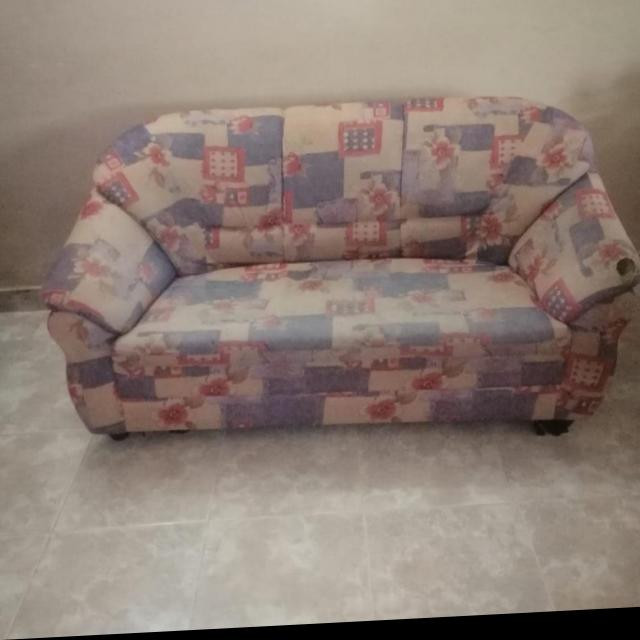Sofa: (45, 90, 640, 461)
